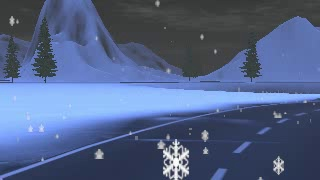Lane: (0, 102, 319, 179)
